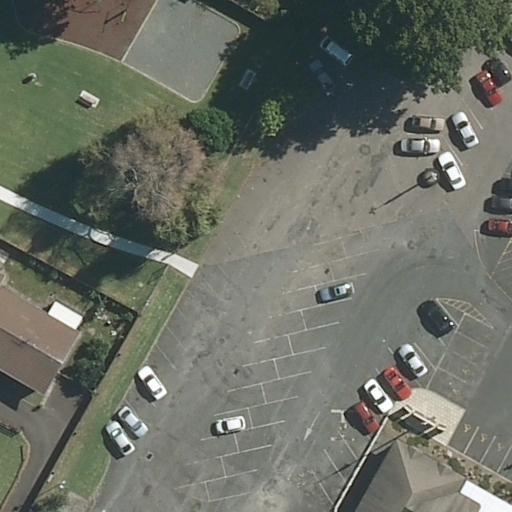DT: (115, 3, 133, 25)
